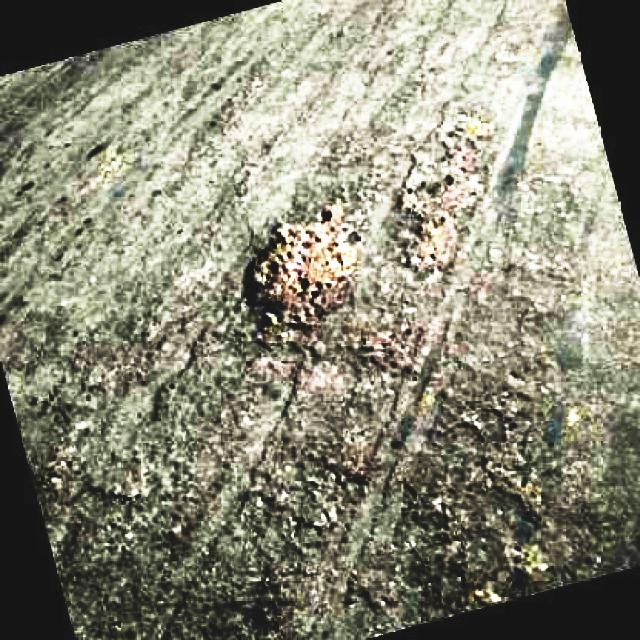pothole: (242, 201, 356, 334), (402, 163, 483, 280)
